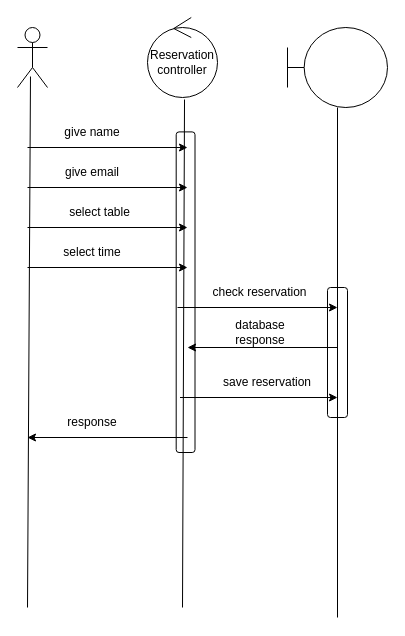
This 405x636 diagram has some shape labels left out. The centre of each missing label's shape, as x and y in pixels:
"Actor" goes at (32,57).
"Reservation database" goes at (337,67).
